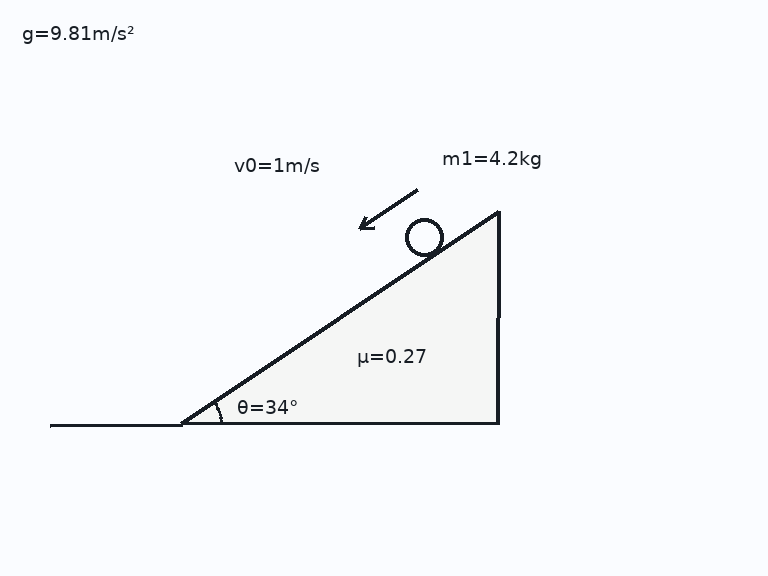ball: (403, 216, 445, 258)
ramp: (179, 208, 500, 426)
